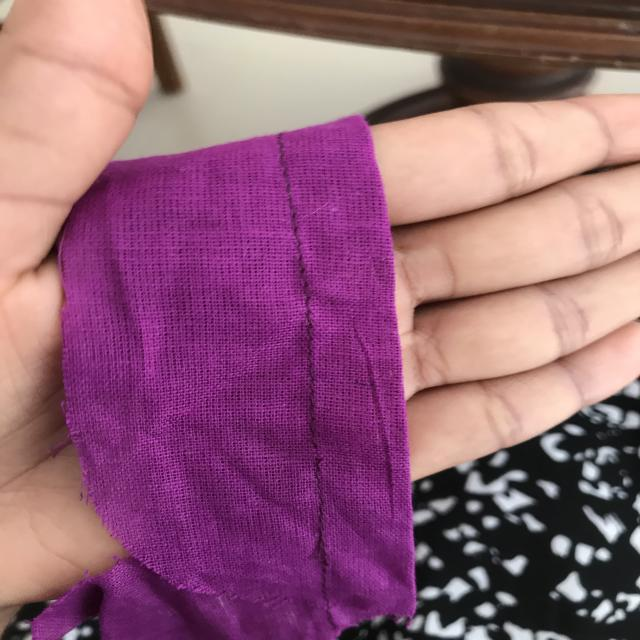good: (287, 328, 335, 417), (282, 218, 320, 287)
